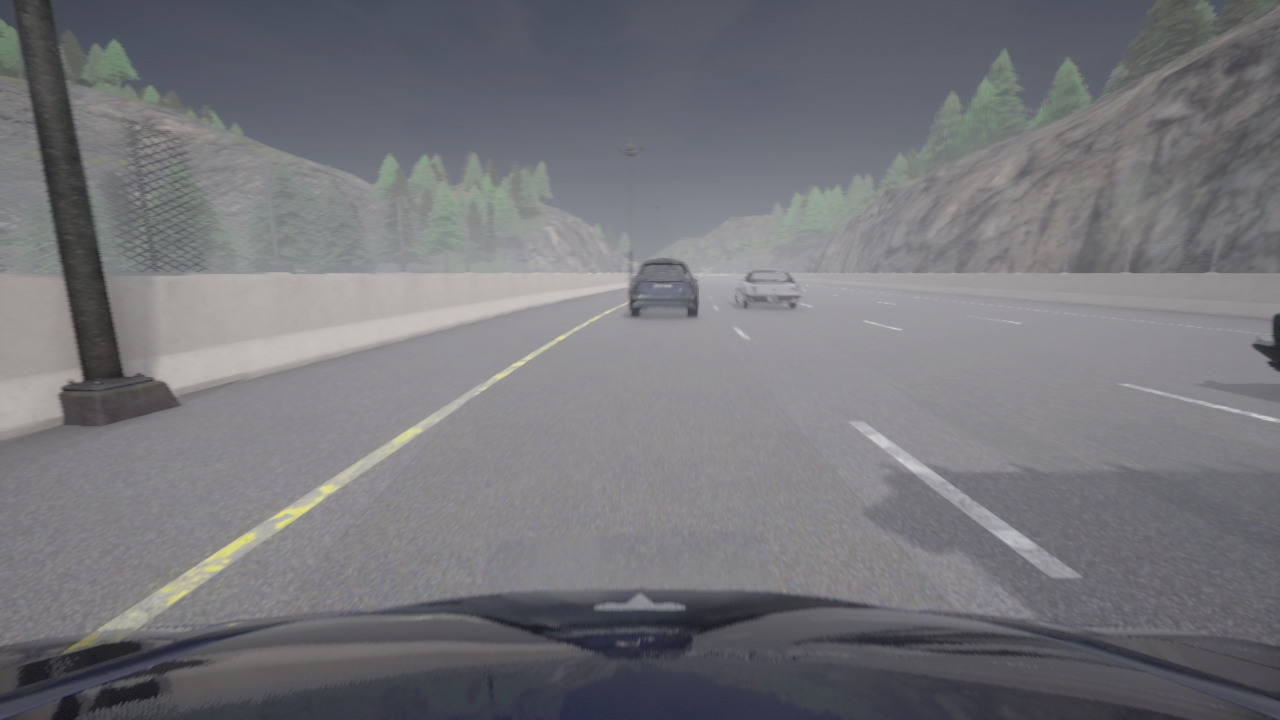cyclist: (0, 588, 1279, 719), (629, 258, 698, 316), (735, 271, 802, 308), (1251, 311, 1279, 372), (693, 274, 695, 275)
